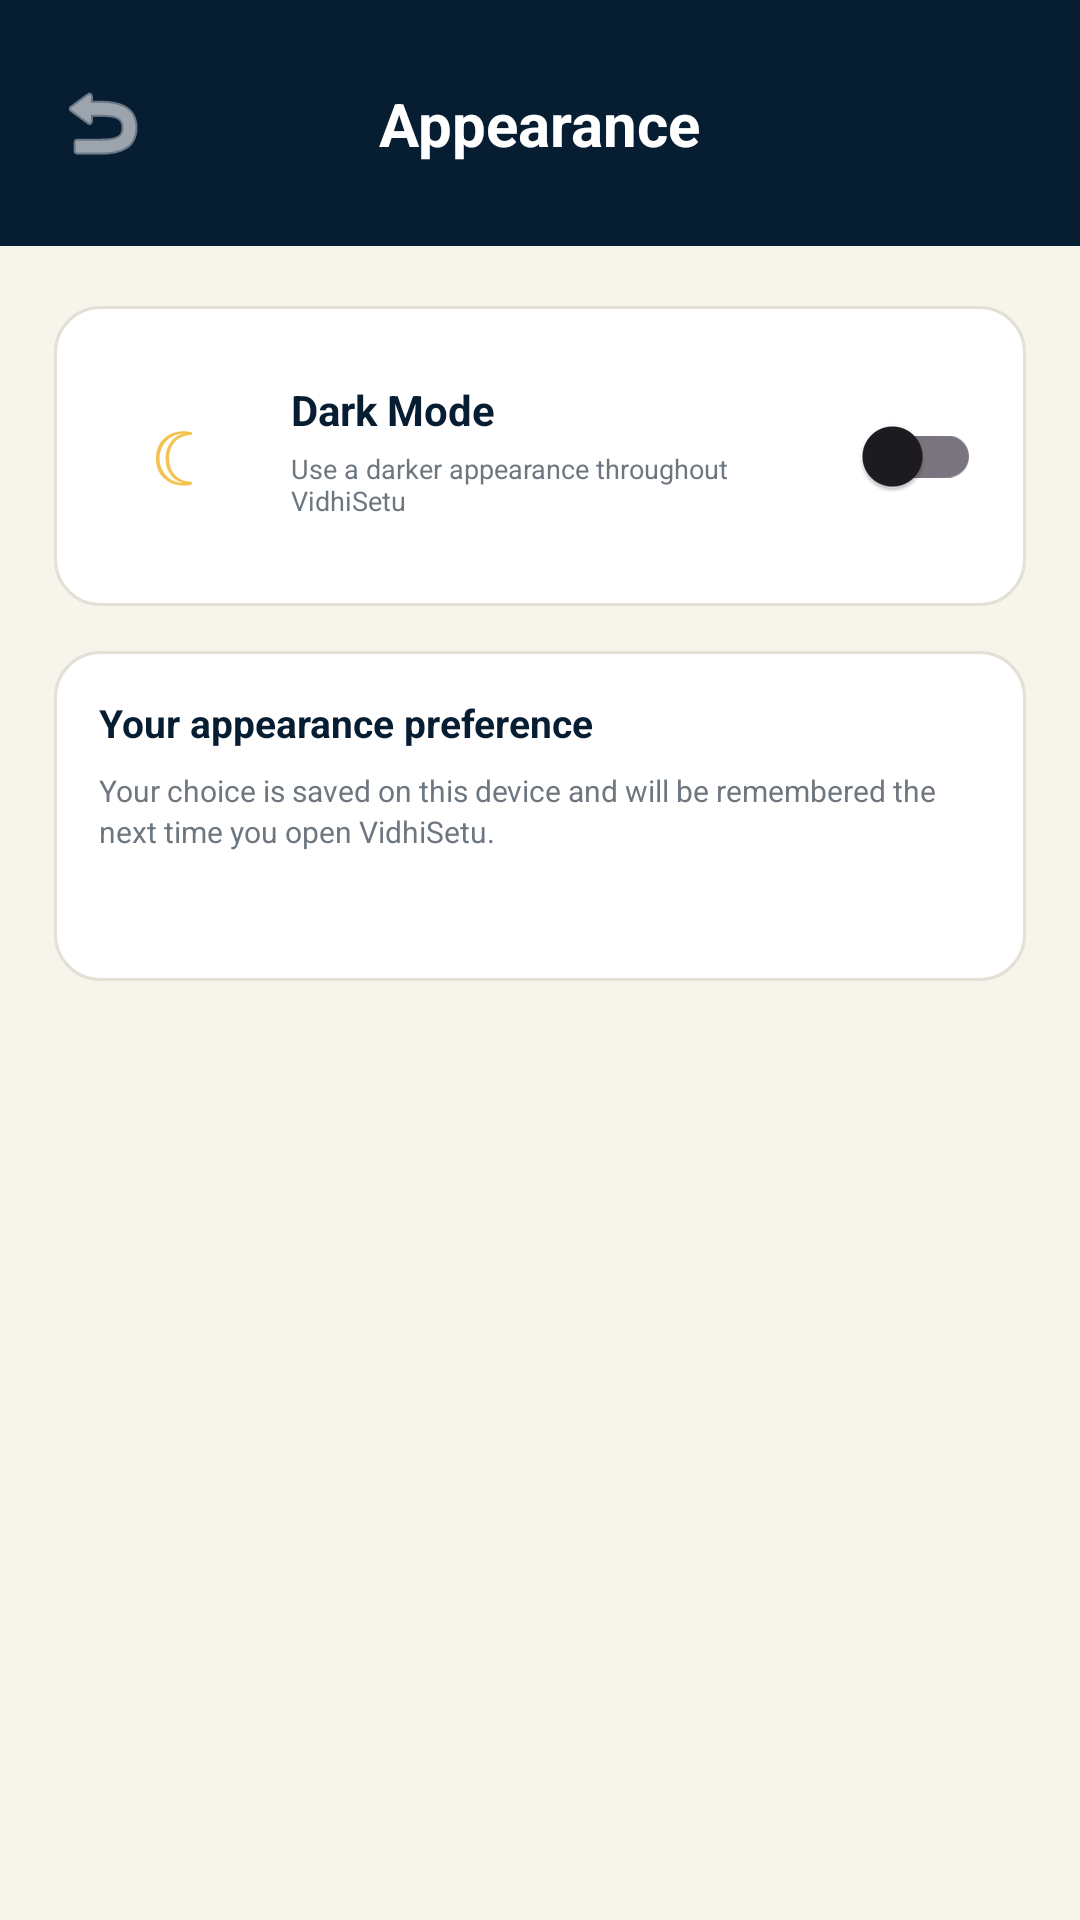

Icon click points for this 1080×1920 phone screenshot, format point (x, y):
Back: point (103, 123)
